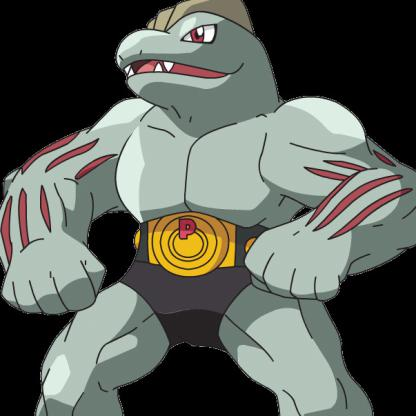Machoke: (1, 1, 416, 416)
